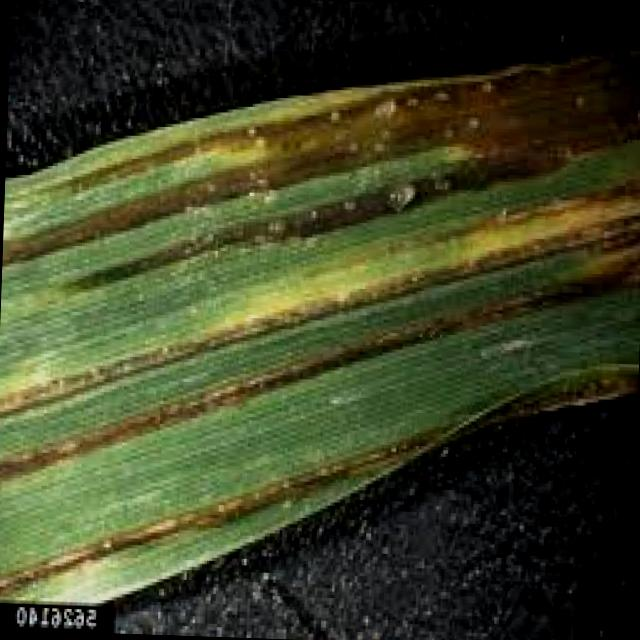leaf_blight: (0, 39, 640, 597)
